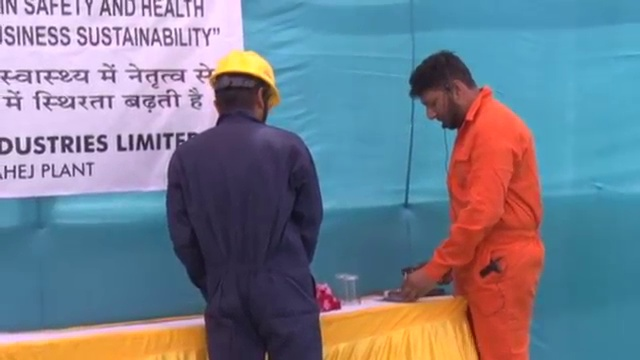helmet: (208, 49, 280, 106)
helmet_off: (407, 49, 479, 132)
helmet_on: (208, 50, 279, 128)
person: (165, 48, 325, 360), (392, 48, 549, 360)
